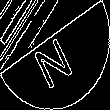N_NW: (31, 23, 79, 87)
